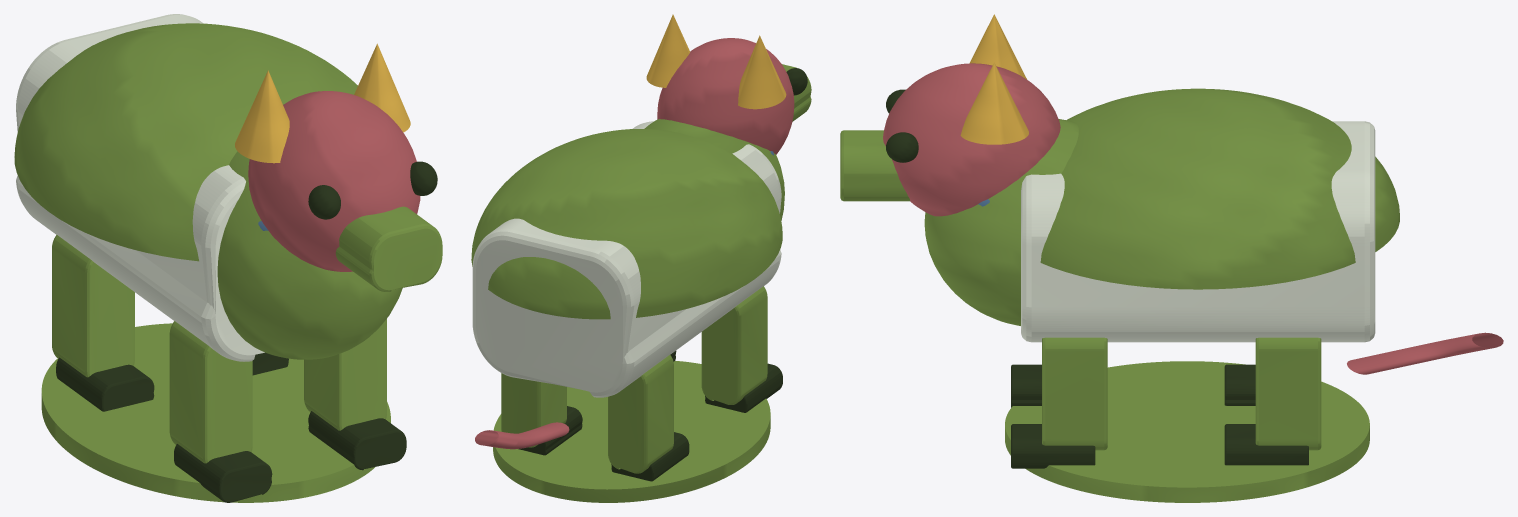
The model's file is 1289_爬行动物图鉴_红边束带蛇.glb.
The picture shows the model from 3 angles, left to right: view 1: azimuth 30°, elevation 25°; view 2: azimuth 150°, elevation 25°; view 3: azimuth 270°, elevation 25°; orthographic projection. The views are drawn at different scales.
Parts seen in each view (by area): view 1: card_1289; view 2: card_1289; view 3: card_1289.
Boxes of the visible parts, x1,y1,x2,y2 form: card_1289: (14,14,442,502); card_1289: (471,14,811,502); card_1289: (840,14,1503,502).
Bounding box in the file's own units: 0.7623 × 1 × 1.5.
